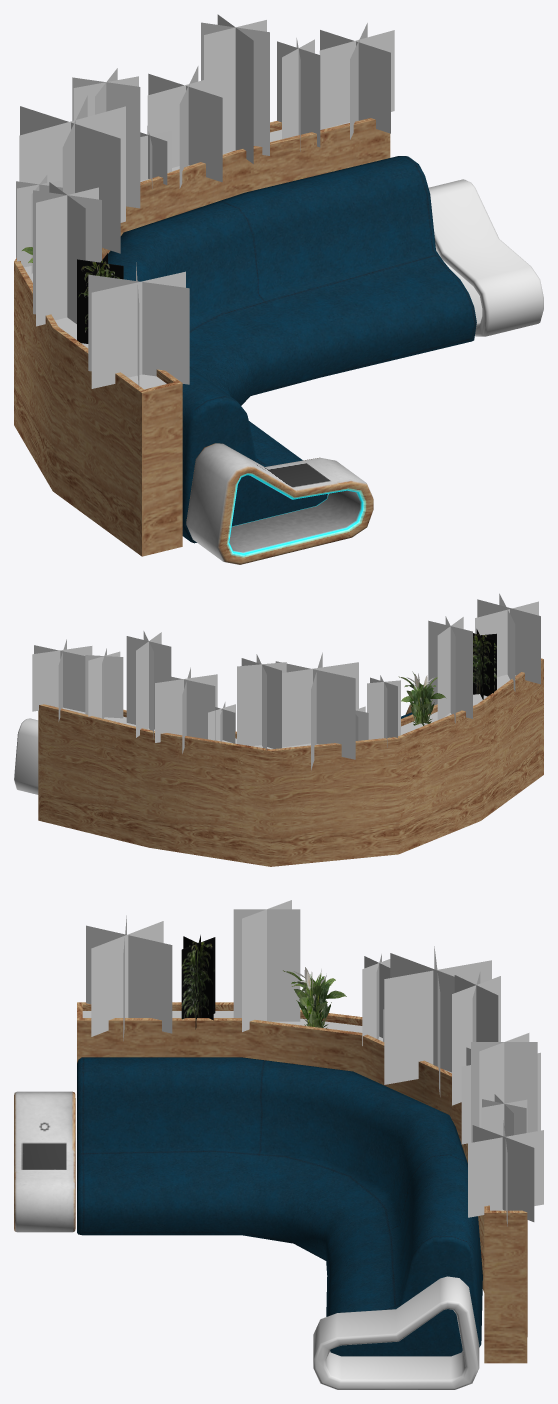
The model's file is Mueble.fbx.
3 views of the same model, one above another, from view 1: azimuth 30°, elevation 25°; view 2: azimuth 150°, elevation 25°; view 3: azimuth 270°, elevation 25° (orthographic). The views are drawn at different scales.
Parts seen in each view (by area): view 1: sofa, matera, mesa, Plane.004, mesa.001, Plane.002, Plane.007, Plane.012, Plane.005, Plane.003, Plane.013, Plane.010 (+3 smaller); view 2: matera, Plane.002, Plane.004, Plane.007, Plane.010, Plane.003, Plane.005, Plane.012, Plane.013, Plane.008, mesa.001, Plane.006 (+3 smaller); view 3: sofa, matera, mesa.001, mesa, Plane.002, Plane.004, Plane.007, Plane.005, Plane.012, Plane.010, Plane.006, Plane.008 (+3 smaller).
Boxes of the visible parts, <box> form: sofa: <box>108,156,476,543</box>; matera: <box>14,118,390,556</box>; mesa: <box>186,443,373,564</box>; Plane.004: <box>88,262,189,388</box>; mesa.001: <box>428,179,543,336</box>; Plane.002: <box>19,95,125,253</box>; Plane.007: <box>33,182,101,326</box>; Plane.012: <box>201,14,269,163</box>; Plane.005: <box>319,23,394,139</box>; Plane.003: <box>147,66,226,188</box>; Plane.013: <box>277,38,320,151</box>; Plane.010: <box>72,68,140,208</box>; matera: <box>38,658,543,866</box>; Plane.002: <box>275,652,358,770</box>; Plane.004: <box>475,593,540,691</box>; Plane.007: <box>428,616,472,723</box>; Plane.010: <box>237,654,286,749</box>; Plane.003: <box>155,667,217,753</box>; Plane.005: <box>32,639,92,721</box>; Plane.012: <box>126,631,171,738</box>; Plane.013: <box>85,648,123,718</box>; Plane.008: <box>367,675,400,747</box>; mesa.001: <box>14,718,38,794</box>; Plane.006: <box>473,629,496,699</box>; sofa: <box>77,1057,482,1356</box>; matera: <box>77,1002,527,1363</box>; mesa.001: <box>313,1276,479,1389</box>; mesa: <box>14,1091,75,1232</box>; Plane.002: <box>384,946,491,1096</box>; Plane.004: <box>86,915,172,1040</box>; Plane.007: <box>233,900,300,1031</box>; Plane.005: <box>468,1120,543,1226</box>; Plane.012: <box>471,1033,537,1142</box>; Plane.010: <box>452,972,500,1105</box>; Plane.006: <box>181,935,215,1029</box>; Plane.008: <box>362,954,390,1045</box>.
Bounding box in the file's own units: 239 × 115 × 215.
